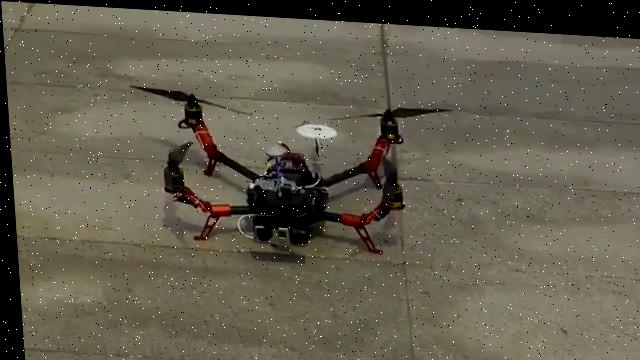drone: (124, 77, 460, 256)
